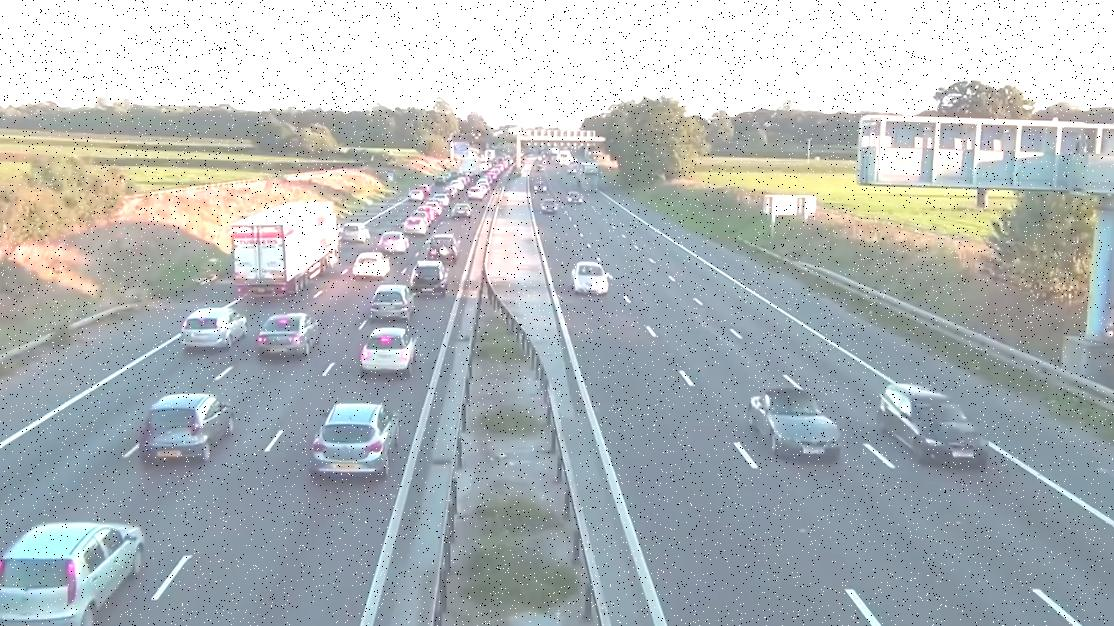car: (0, 519, 146, 626), (877, 384, 992, 470), (309, 402, 405, 478), (141, 392, 238, 465), (747, 388, 849, 456), (177, 307, 248, 351), (253, 314, 318, 359), (362, 325, 416, 376), (370, 286, 416, 320), (572, 260, 614, 295), (409, 260, 447, 294), (346, 253, 388, 279), (428, 235, 460, 264), (381, 233, 409, 254), (344, 223, 371, 244), (403, 214, 427, 232), (541, 197, 559, 215), (451, 205, 474, 219), (562, 191, 583, 203)
truck: (229, 203, 339, 297)
